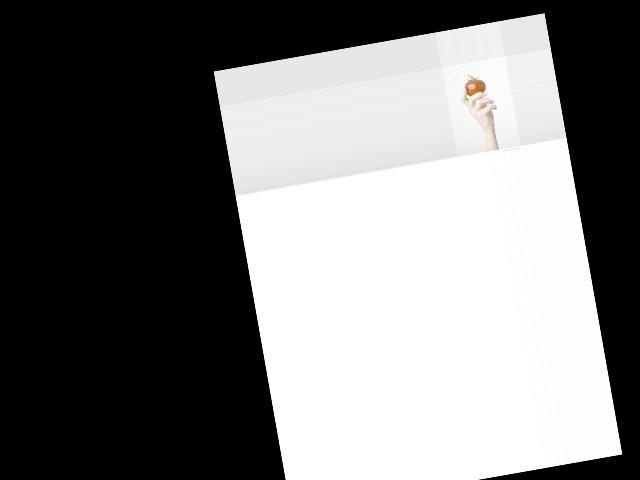tomato: (463, 71, 486, 96)
